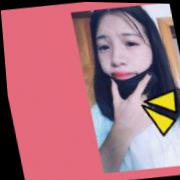WRONG: (91, 17, 160, 97)
